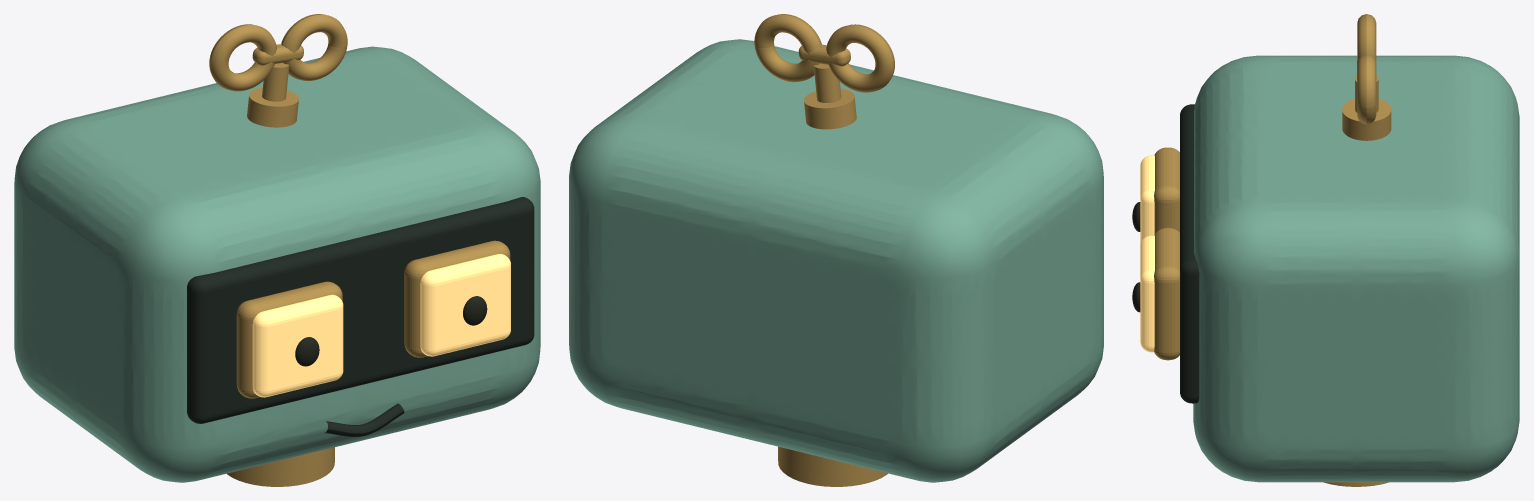
Rendered from brute-head-0.glb.
3 views of the same model, side by side, from view 1: azimuth 30°, elevation 25°; view 2: azimuth 150°, elevation 25°; view 3: azimuth 270°, elevation 25° (orthographic). The views are drawn at different scales.
Parts seen in each view (by area): view 1: head_clay, head_hardware (×4); view 2: head_clay, head_hardware; view 3: head_clay, head_hardware (×4).
Boxes of the visible parts, x1=… form: head_clay: x1=14, y1=46, x2=540, y2=482; head_hardware (×4): x1=187, y1=14, x2=534, y2=486; head_clay: x1=569, y1=39, x2=1103, y2=482; head_hardware: x1=754, y1=14, x2=894, y2=486; head_clay: x1=1193, y1=55, x2=1519, y2=482; head_hardware (×4): x1=1132, y1=14, x2=1391, y2=486.
Size of the model in its own units: 1.37 by 1.41 by 1.15.
